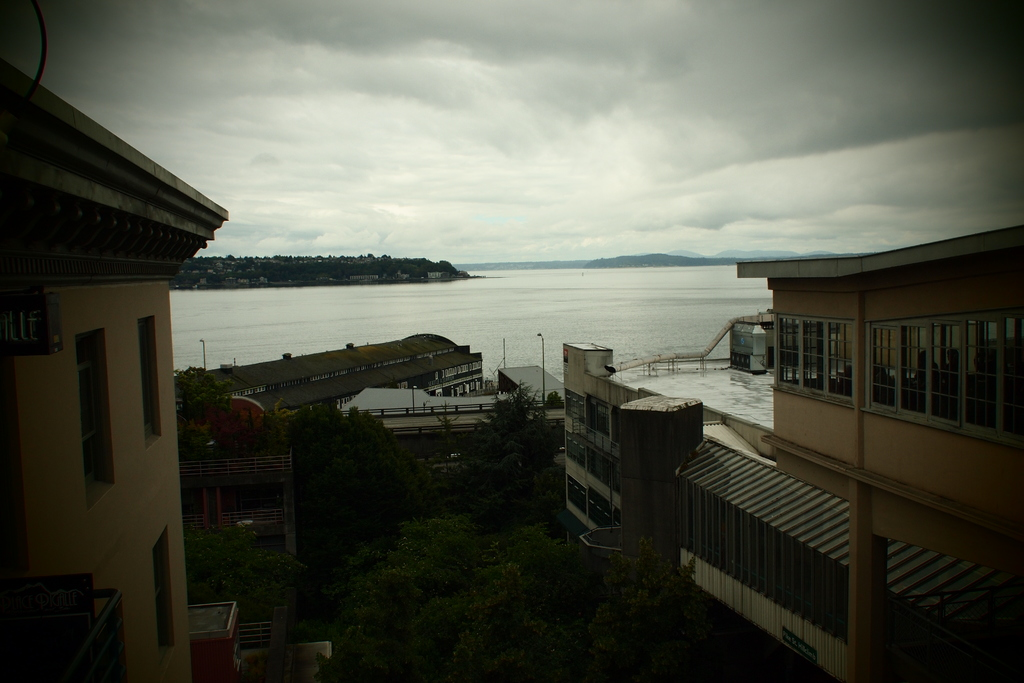Tree: (275, 393, 411, 551), (477, 381, 552, 471), (174, 362, 236, 442)
